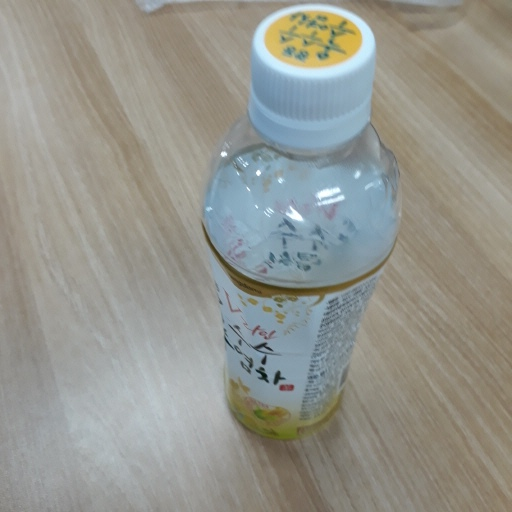Plastic_0: (202, 7, 403, 441)
